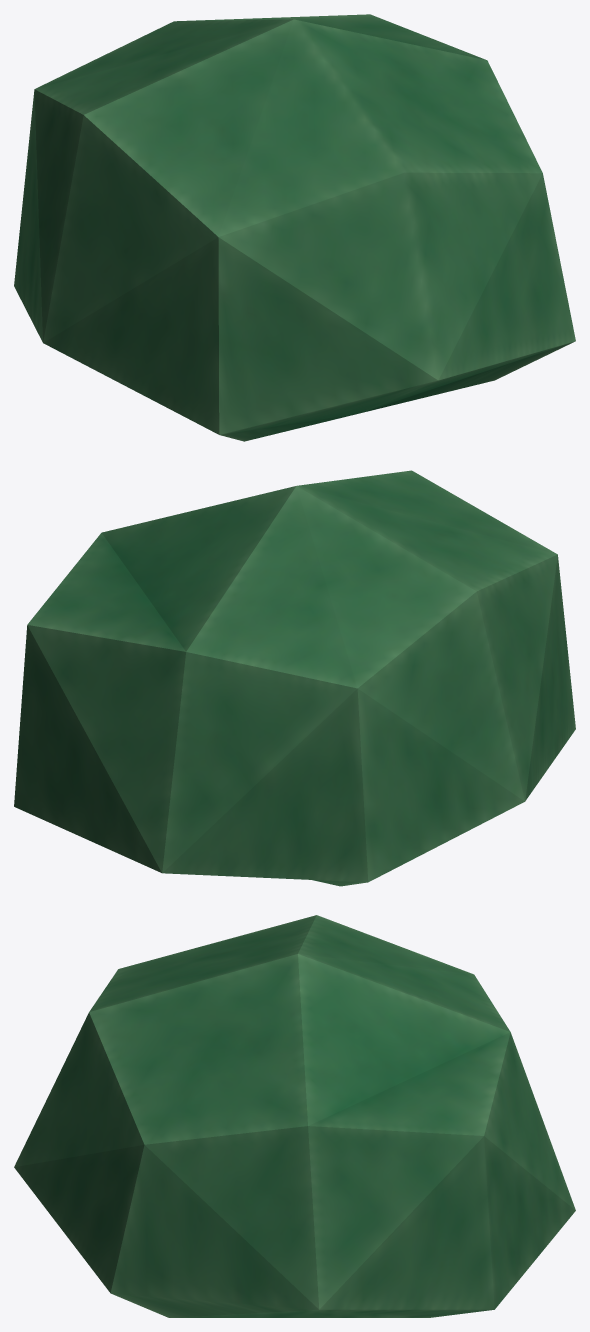
Rendered from GJ_Decor_Exterior_Bush_05.fbx.
3 views of the same model, one above another, from view 1: azimuth 30°, elevation 25°; view 2: azimuth 150°, elevation 25°; view 3: azimuth 270°, elevation 25° (orthographic). The views are drawn at different scales.
Parts seen in each view (by area): view 1: GJ_Decor_Exterior_Bush_05; view 2: GJ_Decor_Exterior_Bush_05; view 3: GJ_Decor_Exterior_Bush_05.
Boxes of the visible parts, x1,y1,x2,y2 form: GJ_Decor_Exterior_Bush_05: (14,14,575,441); GJ_Decor_Exterior_Bush_05: (14,470,575,886); GJ_Decor_Exterior_Bush_05: (14,915,575,1317).
Size of the model in its own units: 6.24 by 4.04 by 6.7.
Materials: 1 (1 with a texture image).
